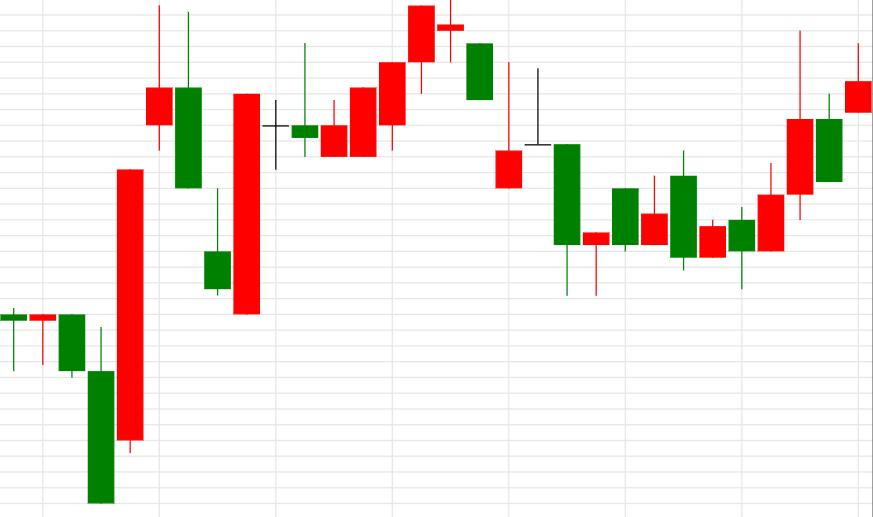inverse_hammer_rise: (408, 1, 522, 189)
